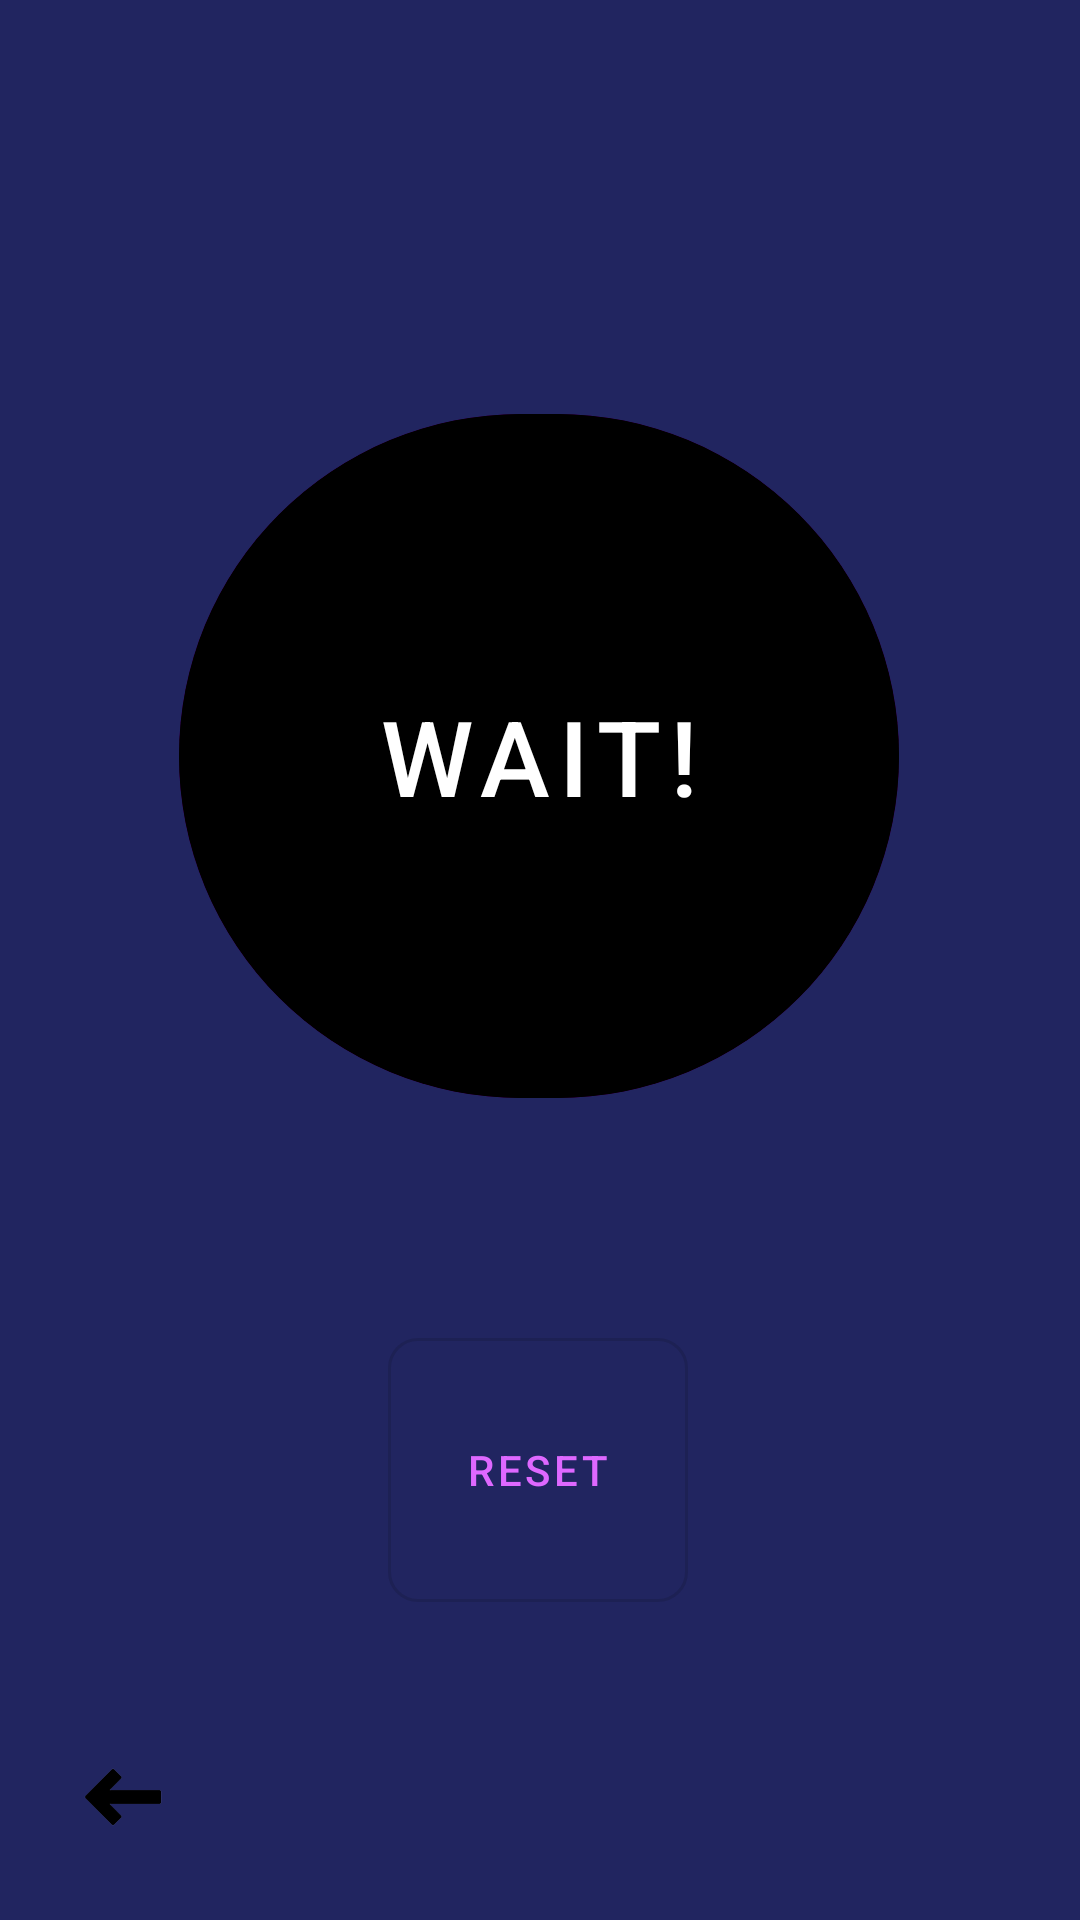

Where to tap for icons on this 1080x1920 app screen, as (x,y):
back: (123,1797)
